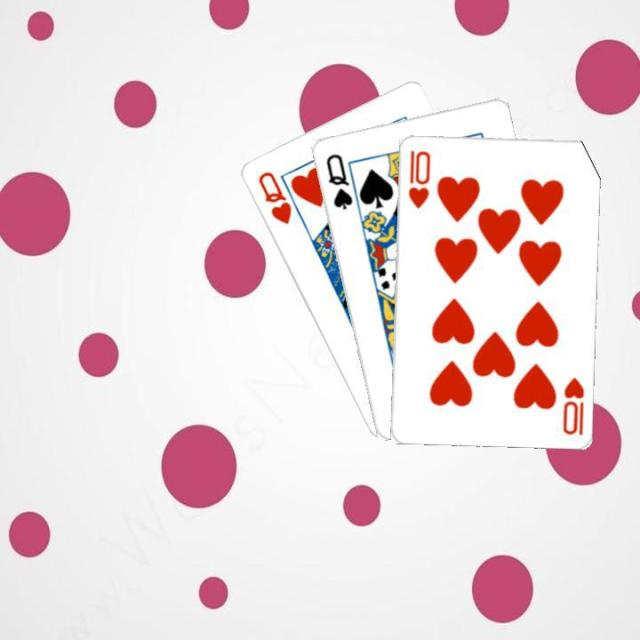10H: (558, 372, 586, 437), (404, 146, 431, 210)
QH: (254, 167, 294, 227)
QS: (321, 150, 354, 212)
